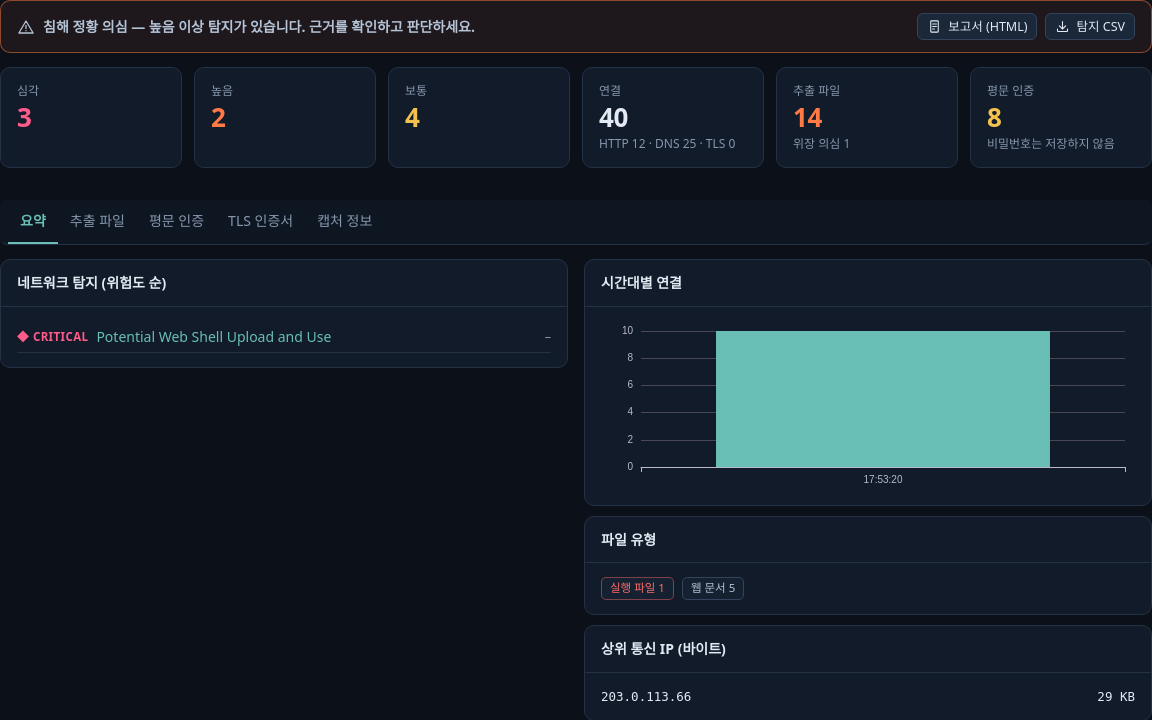
Test: PCAP forensics tab › lists server certificates with their anomalies
Click the tab "TLS 인증서": click(261, 222) x1=216 y1=200 x2=305 y2=244
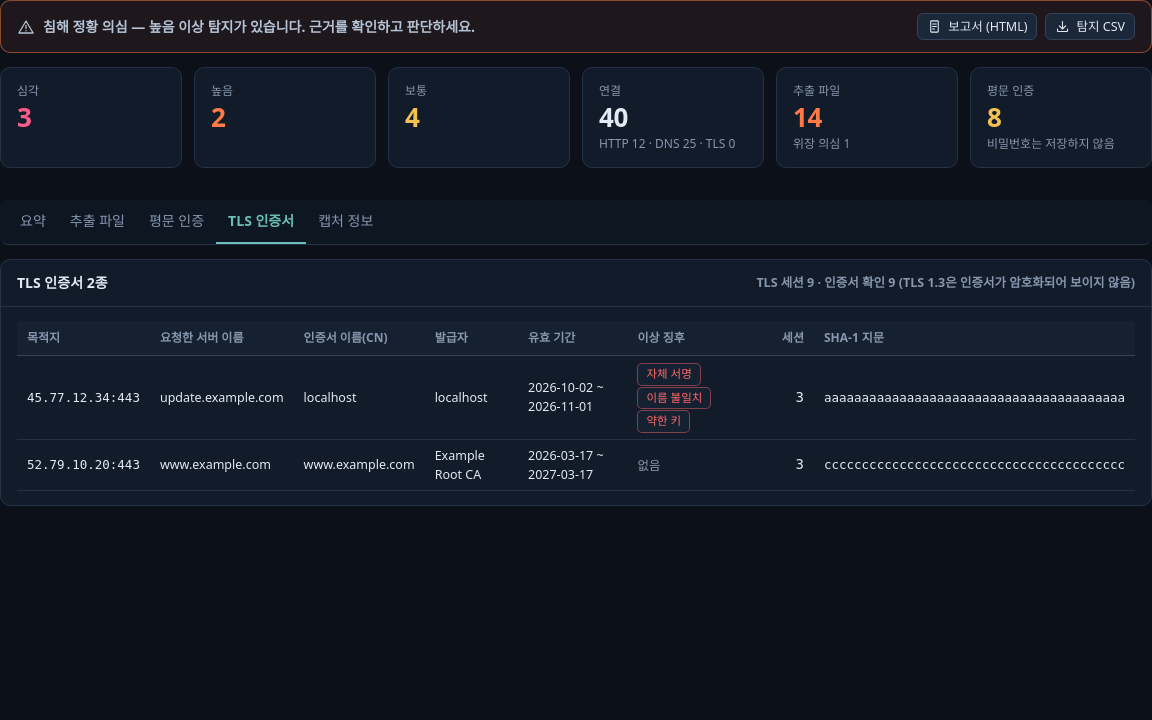
expect the text "자체 서명" is shown: met, box x1=638 y1=363 x2=701 y2=386
expect the text "이름 불일치" is shown: met, box x1=638 y1=387 x2=711 y2=409
expect the text "약한 키" is shown: met, box x1=638 y1=410 x2=690 y2=432
